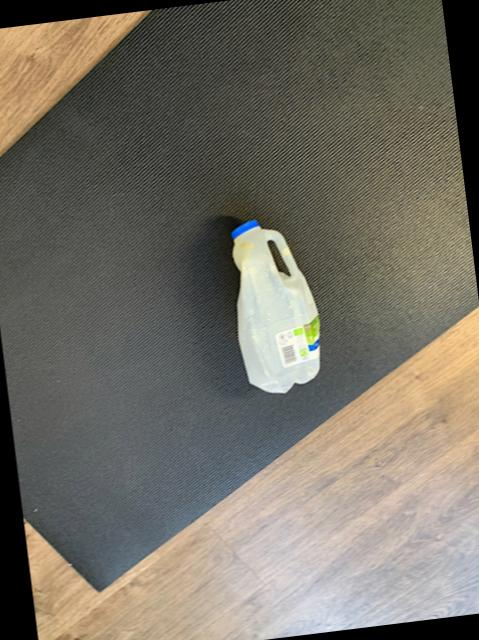plastic: (230, 221, 318, 393)
